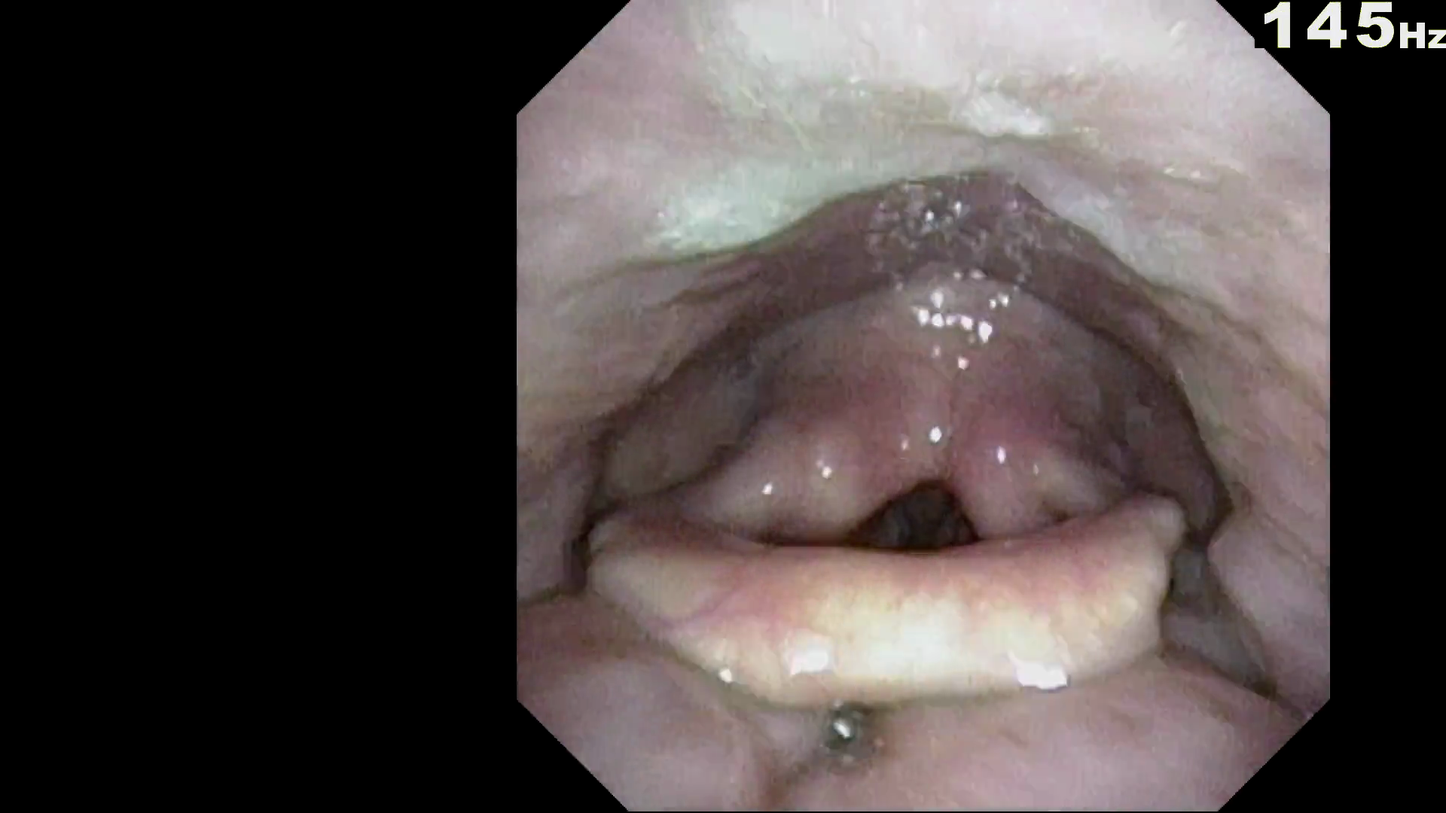epiglottis: (671, 512, 1212, 663)
trachea: (877, 465, 988, 559)
